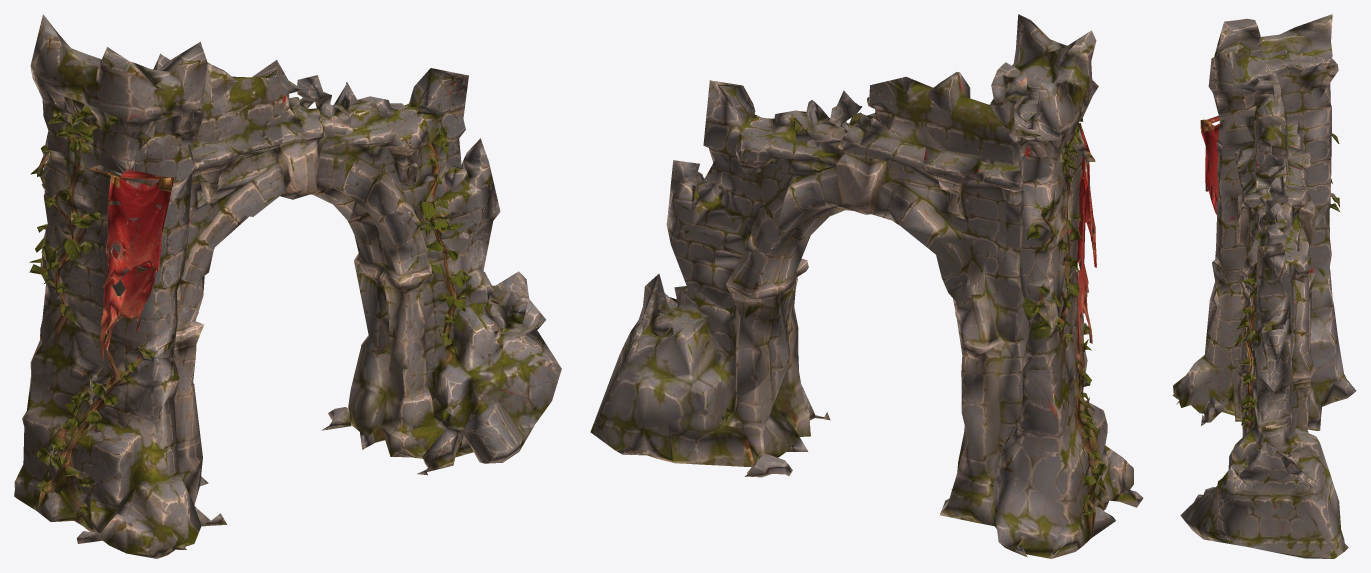
The model's file is gothic_gate.glb.
3 views of the same model, side by side, from view 1: azimuth 30°, elevation 25°; view 2: azimuth 150°, elevation 25°; view 3: azimuth 270°, elevation 25° (orthographic). The views are drawn at different scales.
Visible parts, largest first — view 1: gothic_gate; view 2: gothic_gate; view 3: gothic_gate.
Part boxes in pixels (x1,y1,x2,y2): gothic_gate: (14,14,561,558); gothic_gate: (590,14,1143,558); gothic_gate: (1172,14,1356,558).
Size of the model in its own units: 1.87 by 1.72 by 0.767.
Materials: 1 (1 with a texture image).
